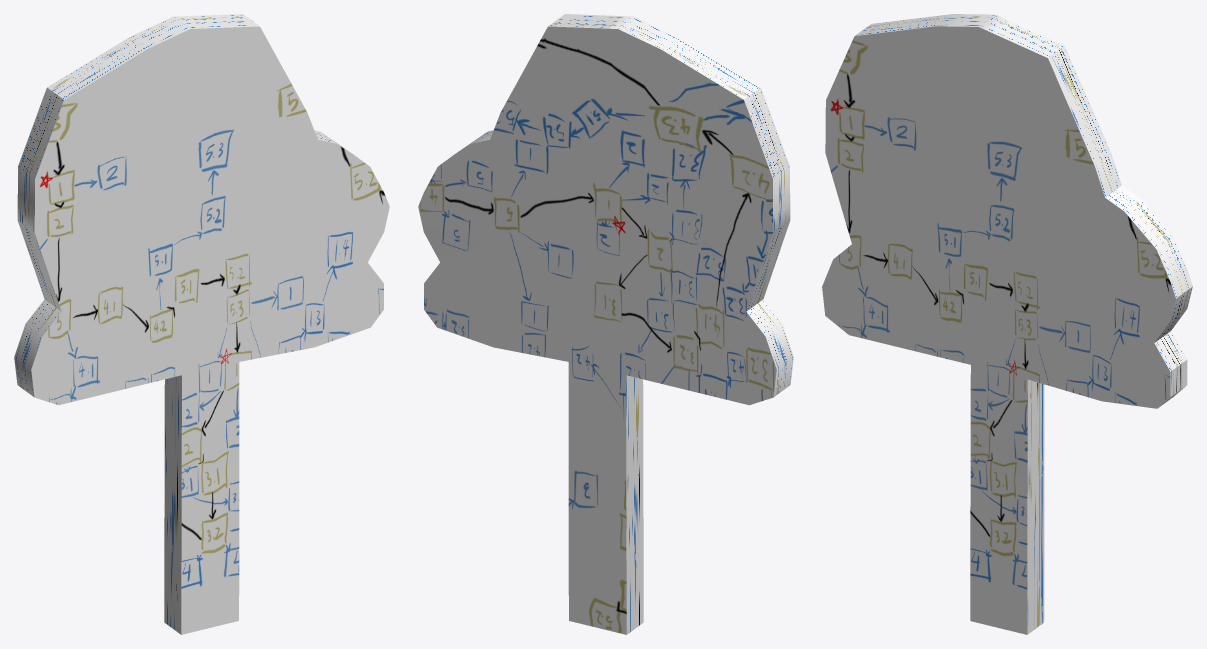
The model's file is mhy_rock.fbx.
3 views of the same model, side by side, from view 1: azimuth 30°, elevation 25°; view 2: azimuth 150°, elevation 25°; view 3: azimuth 330°, elevation 25° (orthographic).
Visible parts, largest first — view 1: pCube2; view 2: pCube2; view 3: pCube2.
Part boxes in pixels (x1,y1,x2,y2): pCube2: (14,14,389,634); pCube2: (418,14,793,634); pCube2: (822,14,1192,634).
Bounding box in the file's own units: 60.62 × 97.53 × 5.
